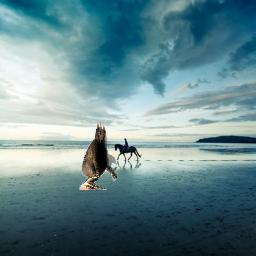Woodpecker: (79, 122, 117, 190)
